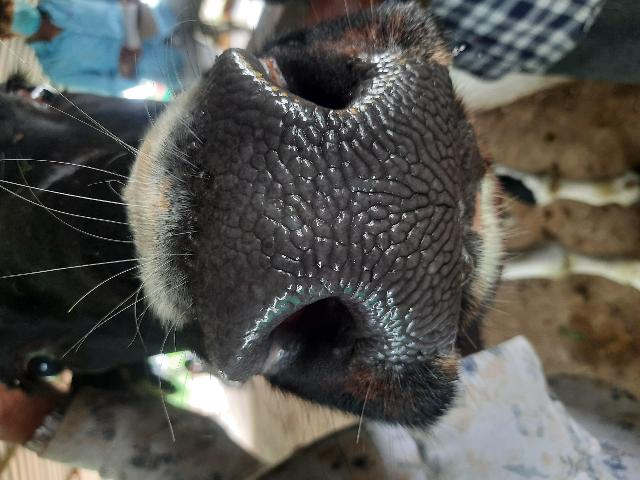Muzzle: (197, 99, 456, 299)
